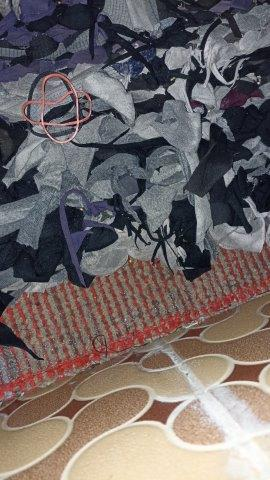karet: (21, 71, 93, 144)
